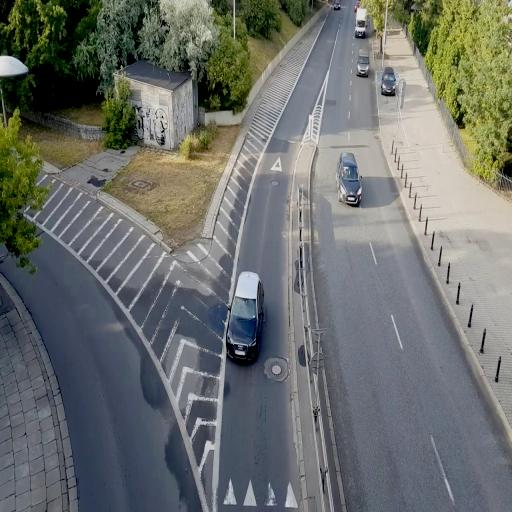vehicle: (226, 270, 264, 364), (226, 271, 264, 363), (336, 151, 362, 207), (381, 67, 398, 96), (357, 54, 370, 78)
